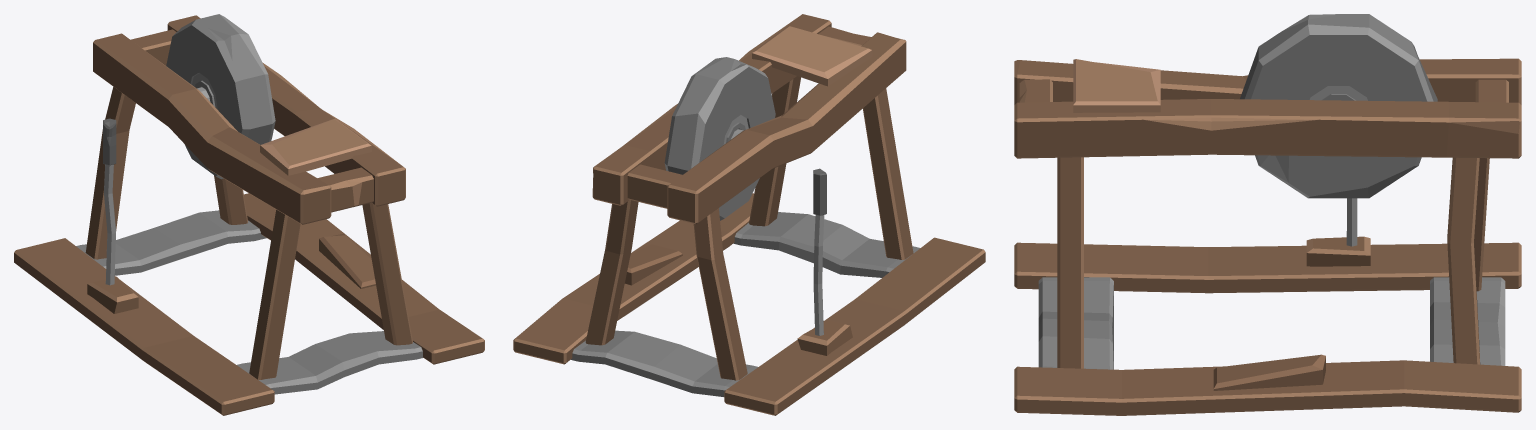
Rendered from Grinding Wheel.fbx.
3 renders of one model, left to right at view 1: azimuth 30°, elevation 25°; view 2: azimuth 150°, elevation 25°; view 3: azimuth 270°, elevation 25°, orthographic. The views are drawn at different scales.
Parts seen in each view (by area): view 1: Frame, Wheel, Pedal, Lever; view 2: Frame, Wheel, Lever, Pedal; view 3: Frame, Wheel, Pedal, Lever.
Boxes of the visible parts, bbox=[...] form: Frame: bbox=[14, 15, 484, 415]; Wheel: bbox=[166, 14, 275, 179]; Pedal: bbox=[319, 233, 375, 288]; Lever: bbox=[103, 118, 116, 285]; Frame: bbox=[513, 14, 985, 415]; Wheel: bbox=[664, 57, 775, 220]; Lever: bbox=[813, 168, 826, 335]; Pedal: bbox=[624, 244, 682, 285]; Frame: bbox=[1014, 58, 1521, 415]; Wheel: bbox=[1240, 14, 1437, 198]; Pedal: bbox=[1213, 354, 1325, 390]; Lever: bbox=[1346, 198, 1357, 246].
Bounding box in the file's own units: 162 × 158 × 224.
